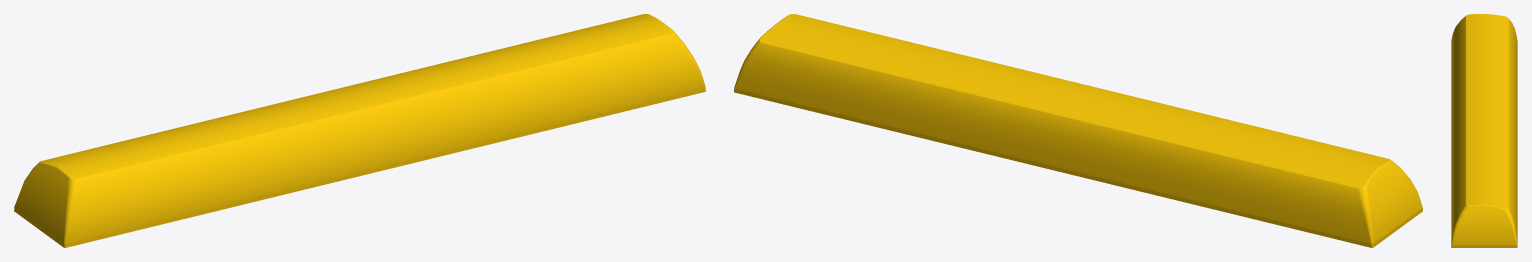
The model's file is KAT_7u_r5.glb.
3 renders of one model, left to right at view 1: azimuth 30°, elevation 25°; view 2: azimuth 150°, elevation 25°; view 3: azimuth 270°, elevation 25°, orthographic. The views are drawn at different scales.
Visible parts, largest first — view 1: Object.084; view 2: Object.084; view 3: Object.084.
Boxes of the visible parts, box(x1,y1,x2,y2) form: Object.084: box(14, 14, 705, 247); Object.084: box(734, 14, 1422, 247); Object.084: box(1451, 14, 1517, 247).
Size of the model in its own units: 132 by 11.17 by 18.2.
